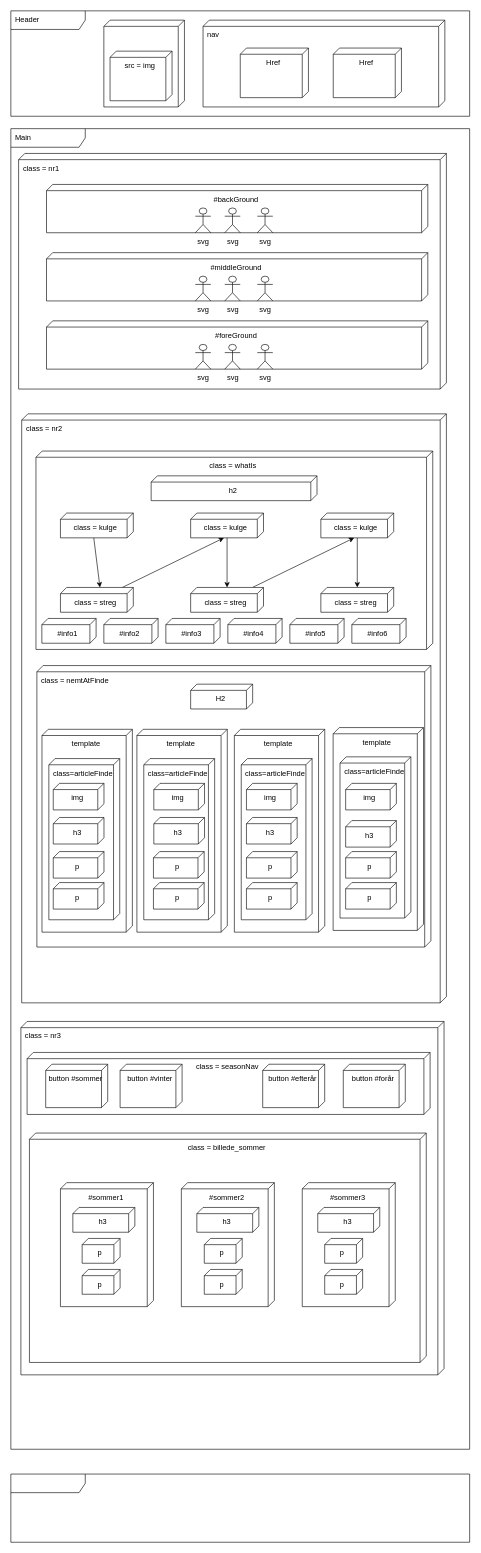
The diagram is 481 pixels wide and 1553 high, and some of its shapes have lost their labels. Each missing label, with the centre of its shape:
div - #logo: the point at 143,63
footer: the point at 240,1507
